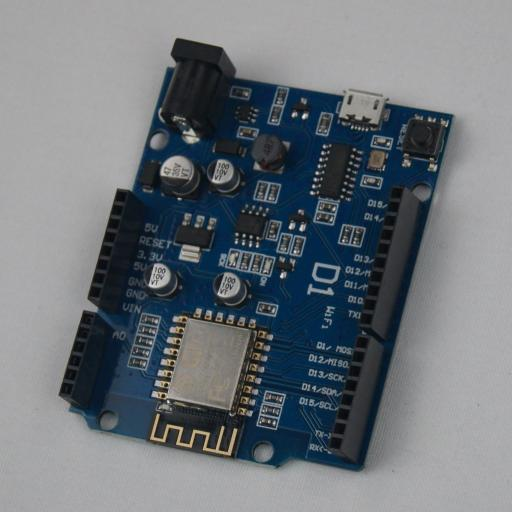Arduino Uno WiFi Shield: (58, 38, 454, 472)
